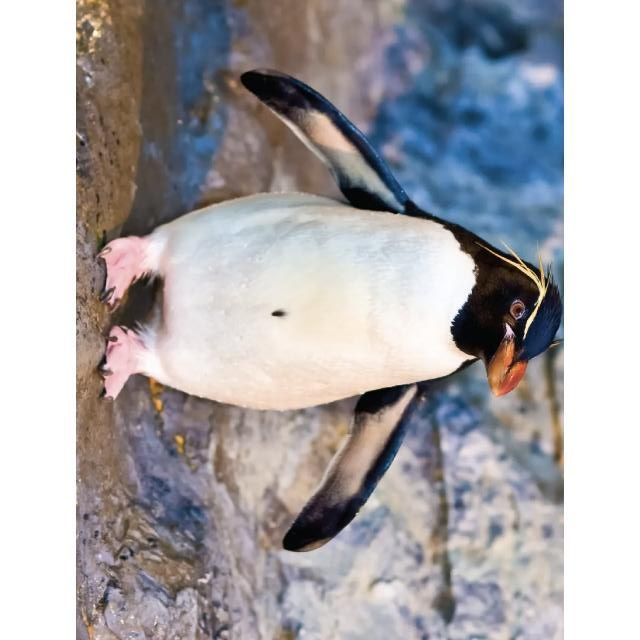penguin: (95, 70, 561, 553)
